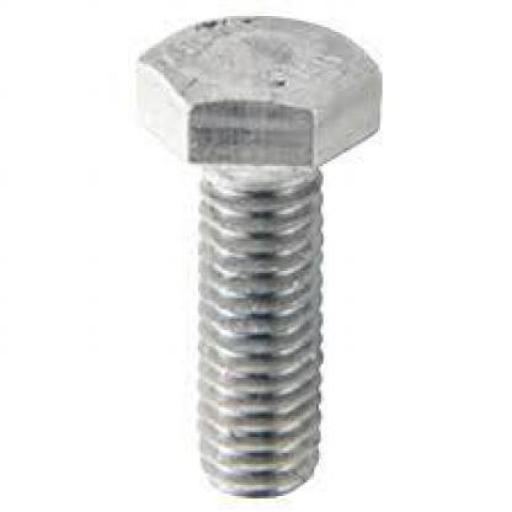Bolt: (134, 15, 384, 501)
